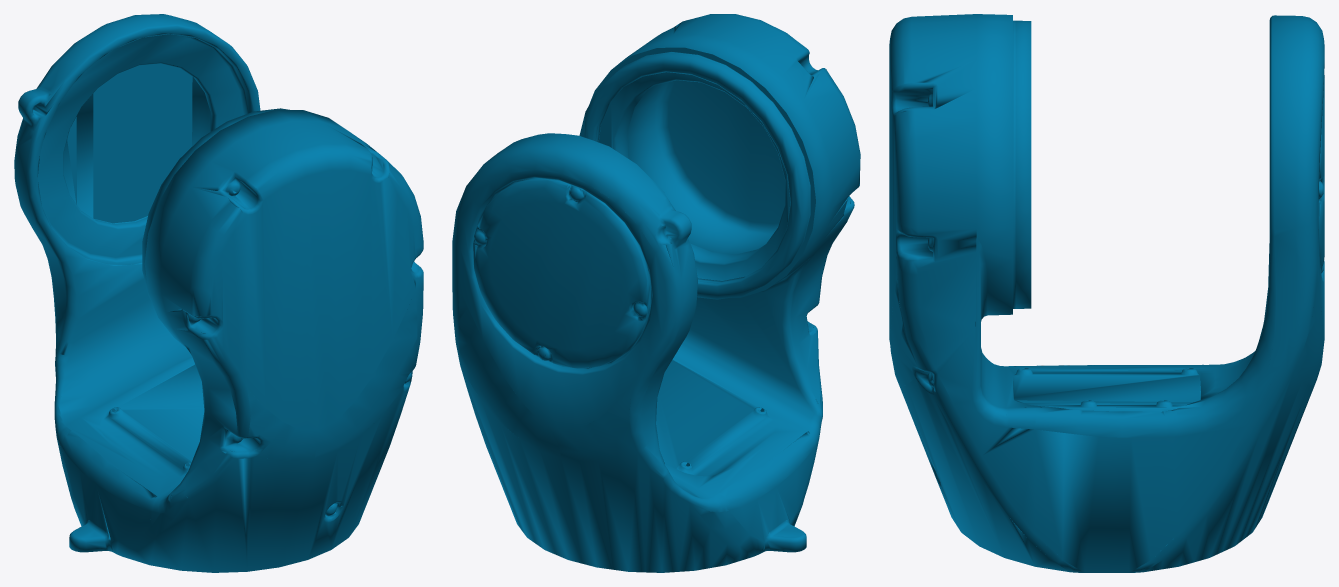
3 views of the same model, side by side, from view 1: azimuth 30°, elevation 25°; view 2: azimuth 150°, elevation 25°; view 3: azimuth 270°, elevation 25° (orthographic). The views are drawn at different scales.
Visible parts, largest first — view 1: gp4_link_1_s; view 2: gp4_link_1_s; view 3: gp4_link_1_s.
Boxes of the visible parts, <box> form: gp4_link_1_s: <box>14,14,423,572</box>; gp4_link_1_s: <box>452,14,860,572</box>; gp4_link_1_s: <box>889,14,1324,572</box>.
Bounding box in the file's own units: 0.1504 × 0.19 × 0.2305.
